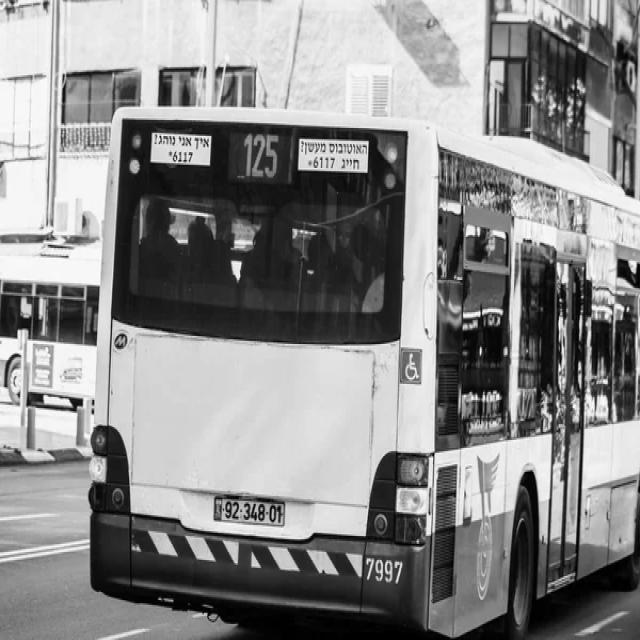Bus: (88, 107, 640, 638)
